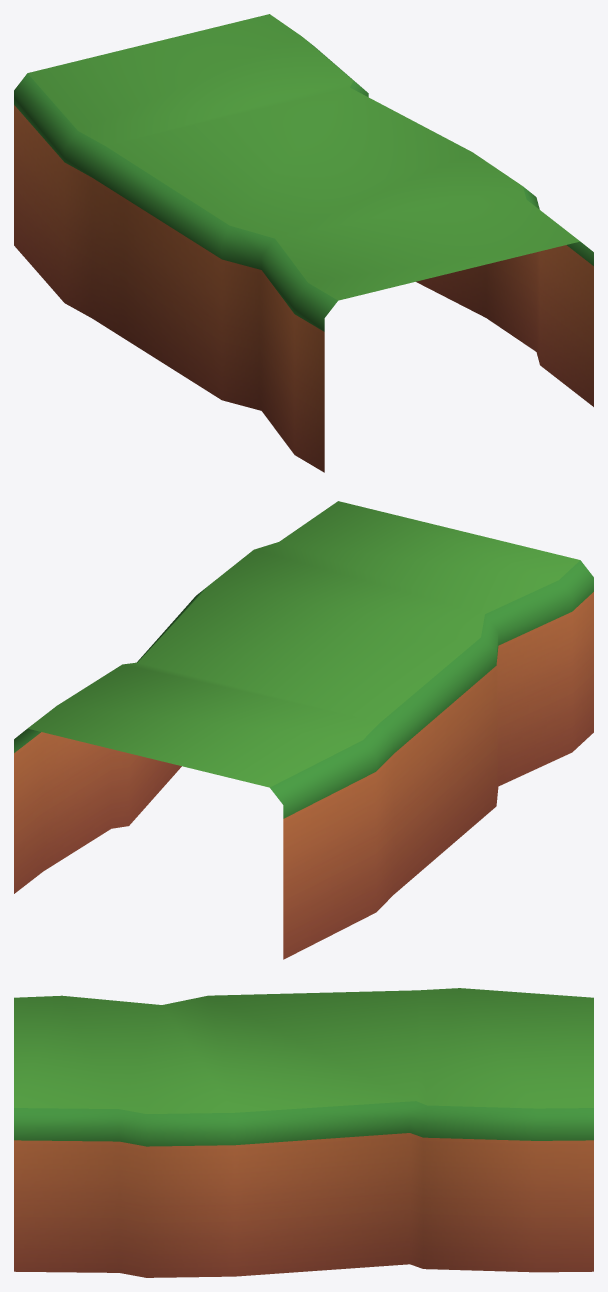
File: Straight L Path 02.FBX
3 views of the same model, one above another, from view 1: azimuth 30°, elevation 25°; view 2: azimuth 150°, elevation 25°; view 3: azimuth 270°, elevation 25° (orthographic). The views are drawn at different scales.
Parts seen in each view (by area): view 1: Straight L Path 02; view 2: Straight L Path 02; view 3: Straight L Path 02.
Part boxes in pixels (x1,y1,x2,y2): Straight L Path 02: [14, 14, 593, 472]; Straight L Path 02: [14, 501, 593, 959]; Straight L Path 02: [14, 988, 593, 1277].
Size of the model in its own units: 564 by 300 by 1000.
1 material, 1 textured.
